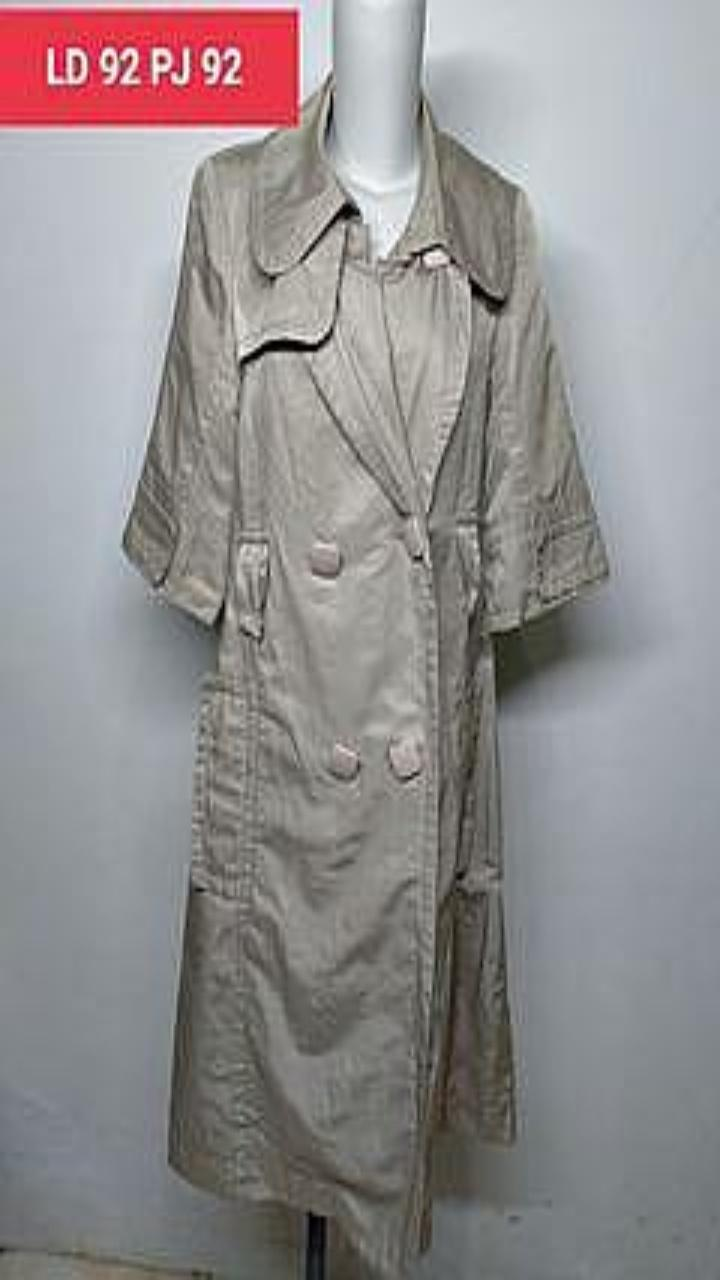Coat: (123, 72, 608, 1274)
